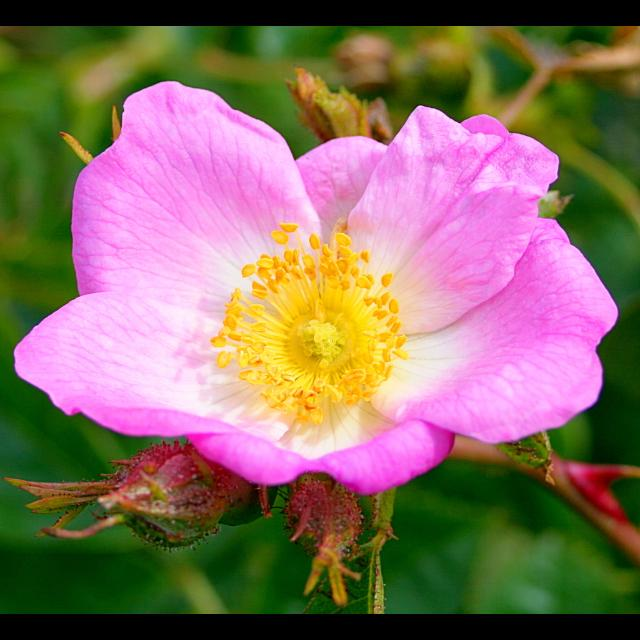Flower: (25, 90, 609, 544)
